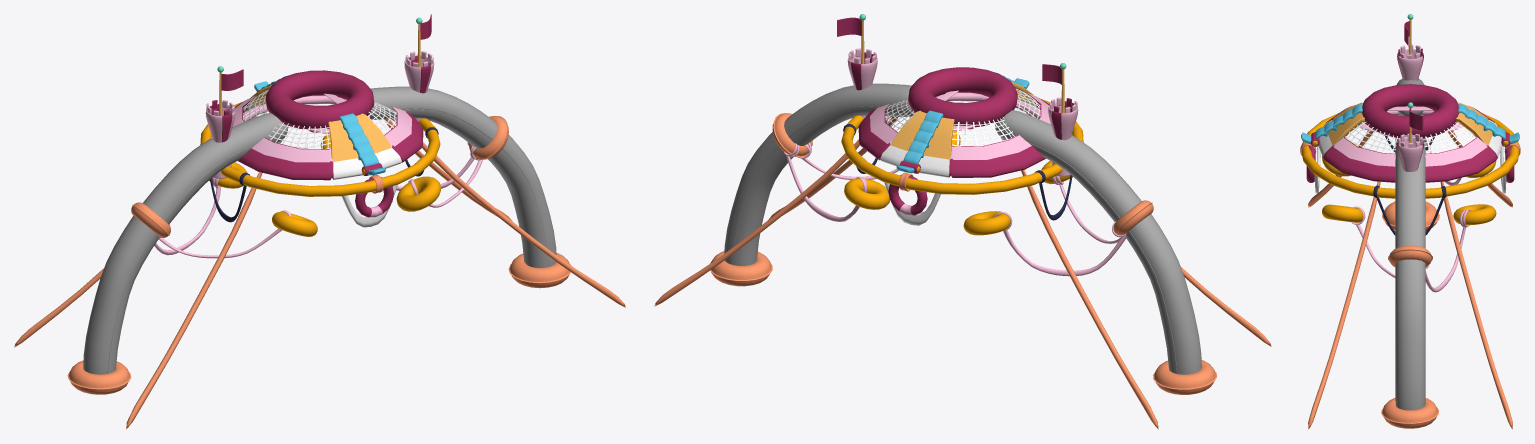
The model's file is OctopusCastleFBX_v2.fbx.
3 renders of one model, left to right at view 1: azimuth 30°, elevation 25°; view 2: azimuth 150°, elevation 25°; view 3: azimuth 270°, elevation 25°, orthographic. The views are drawn at different scales.
Parts seen in each view (by area): view 1: castleMain; view 2: castleMain; view 3: castleMain.
Part boxes in pixels (x1=…): castleMain: x1=14, y1=14, x2=625, y2=429; castleMain: x1=654, y1=14, x2=1271, y2=429; castleMain: x1=1300, y1=14, x2=1520, y2=429.
Bounding box in the file's own units: 14341 × 8072 × 6014.
